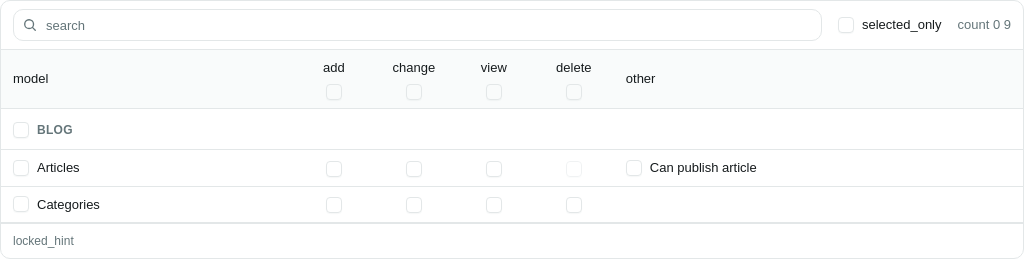
Test: PermissionMatrixWidget › searches models and permissions
Check: the text "Articles" is shown, box [37,158,80,178]
Type "categ" into the search field.
click(418, 25); type("categ")  # box [13,9,822,41]
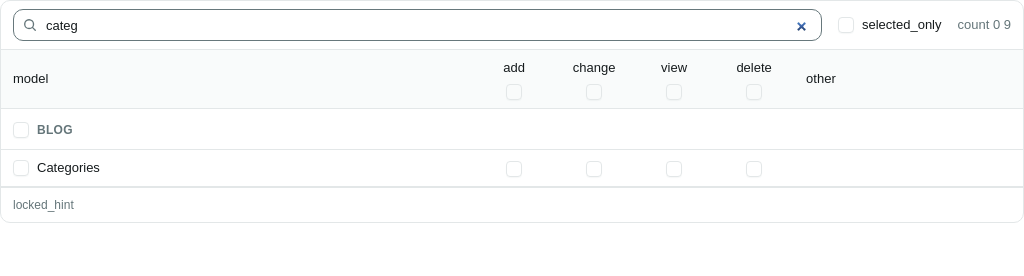
Check: the text "Categories" is shown, box [37,158,100,178]
Check: the text "Articles" is gone
Replace the text in the search field with "publish" at {"x": 418, "y": 25}, box [13,9,822,41]
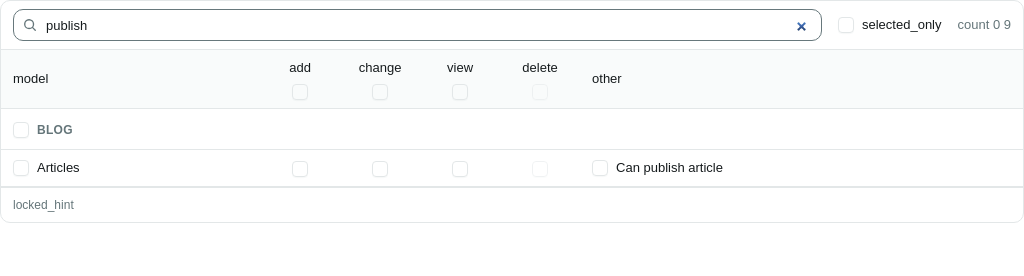
Check: the text "Categories" is not shown
Check: the text "Articles" is shown, box [37,158,80,178]
Replace the text in the search field with "nothing like it" at {"x": 418, "y": 25}, box [13,9,822,41]
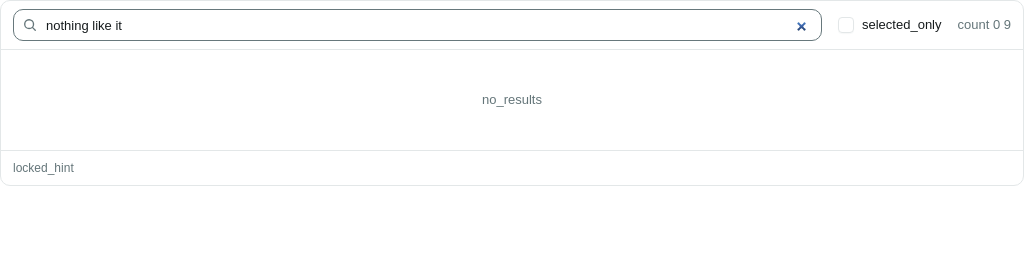
Check: the text "no_results" is shown, box [482,92,542,107]
